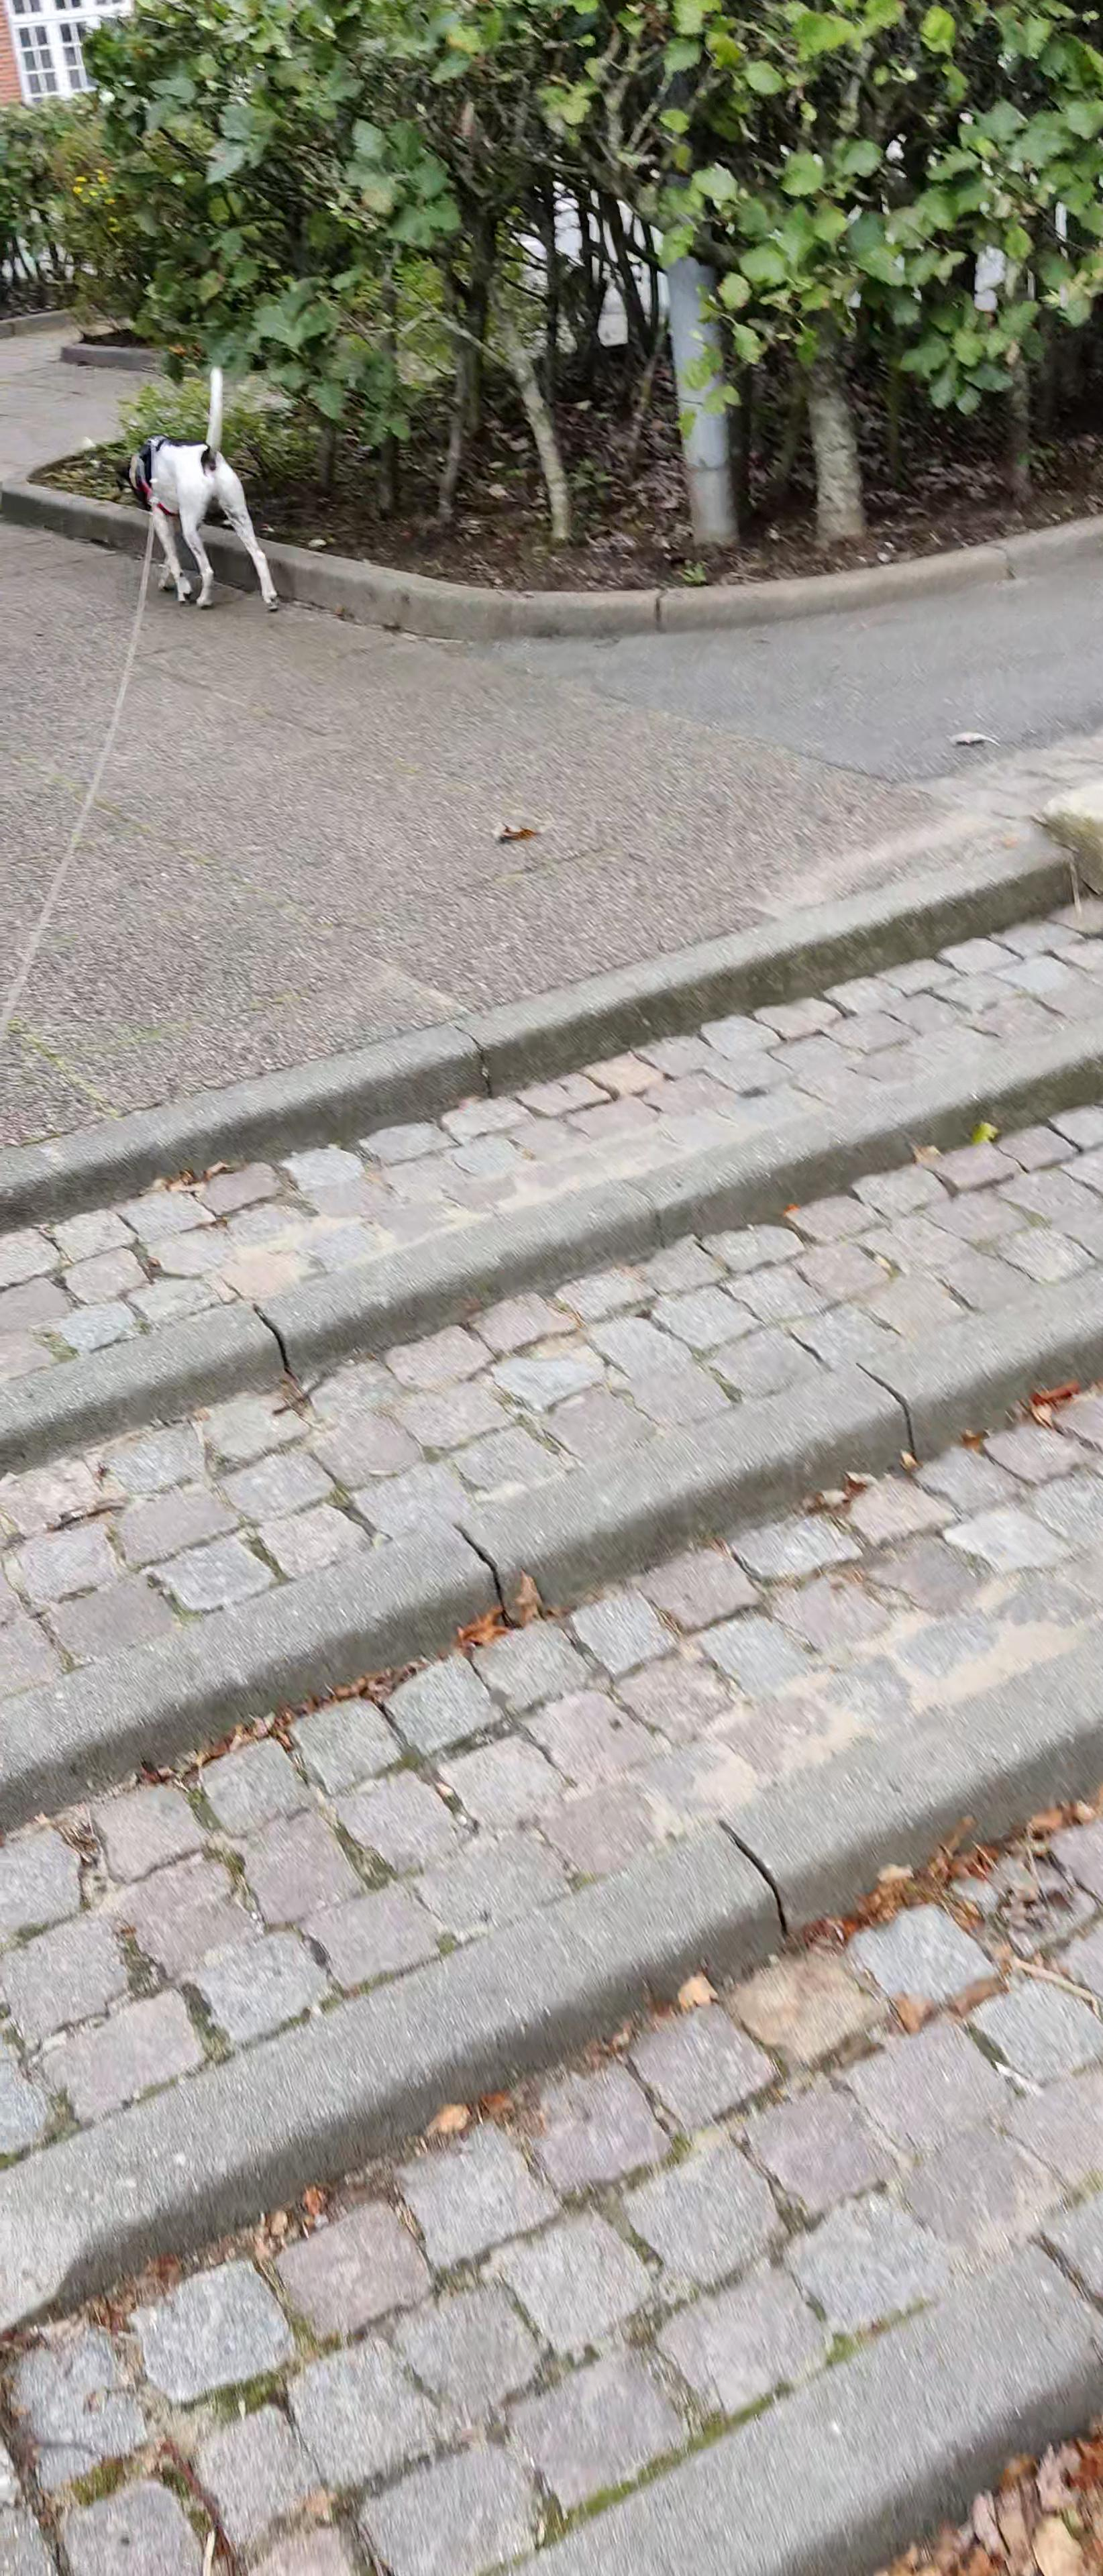Dog: (113, 363, 283, 613)
